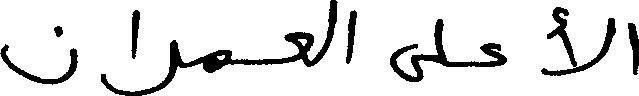X: (544, 2, 612, 80), (0, 21, 76, 89), (391, 39, 424, 86), (153, 35, 175, 95), (285, 27, 313, 71), (480, 38, 506, 71), (203, 45, 228, 77), (323, 0, 336, 60), (344, 5, 355, 68), (131, 5, 138, 95), (435, 14, 446, 71), (629, 18, 638, 79)
